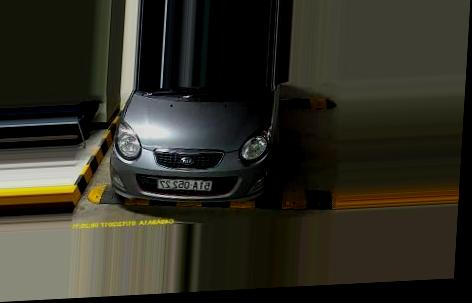License_Plate: (155, 176, 215, 192)
